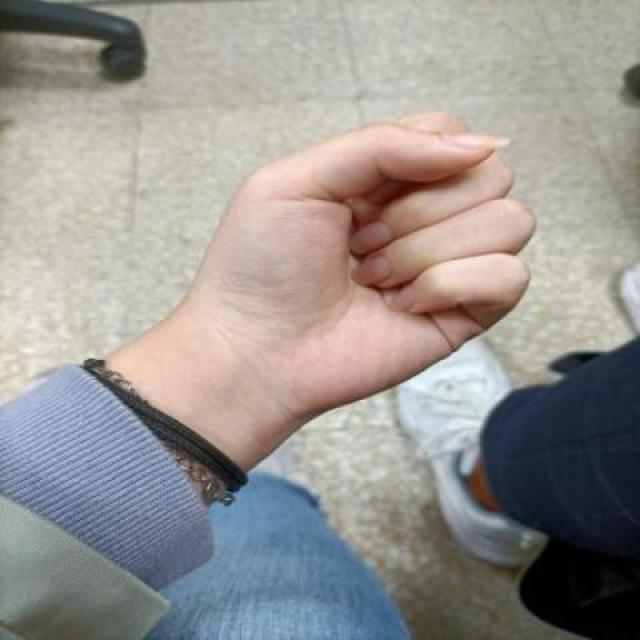fist: (170, 103, 550, 405)
